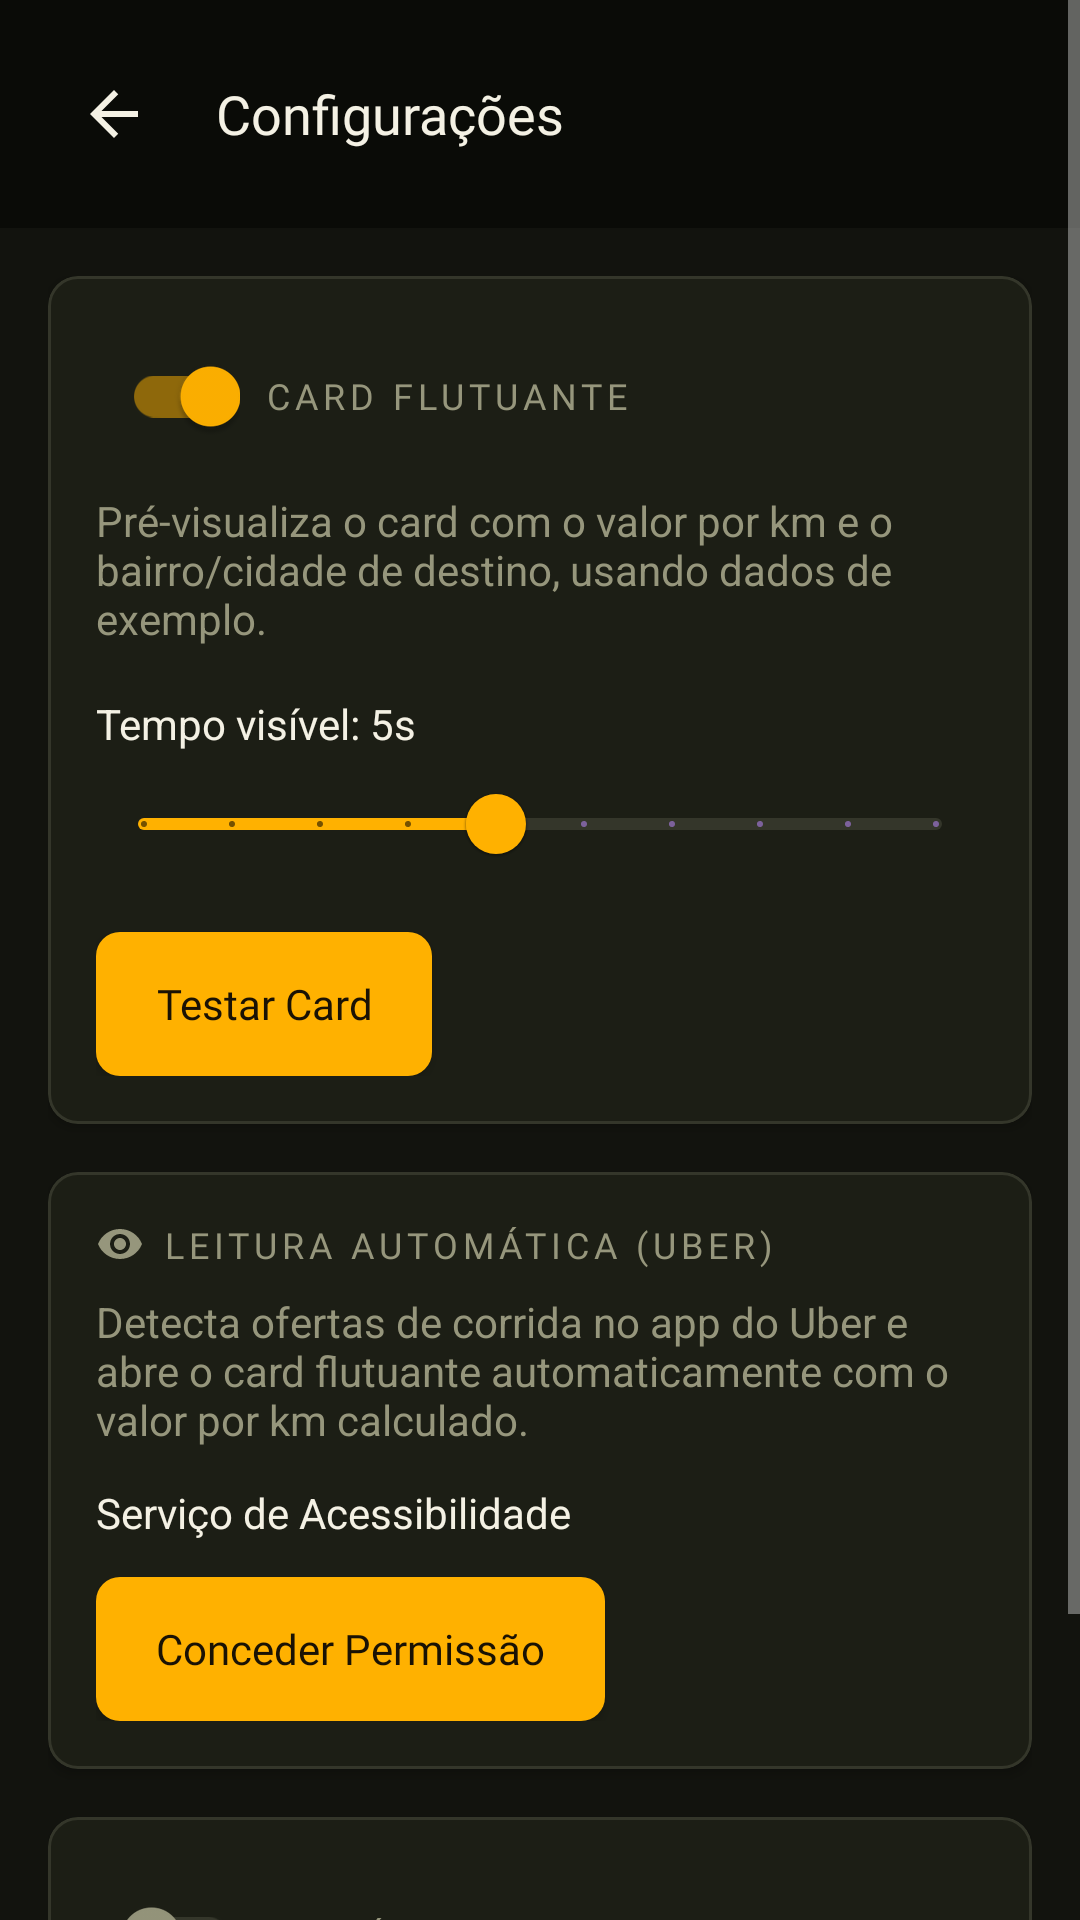

Icon click points for this 1080×1920 phone screenshot, format (x,y):
arrow back: (114,114)
visibility: (120,1244)
